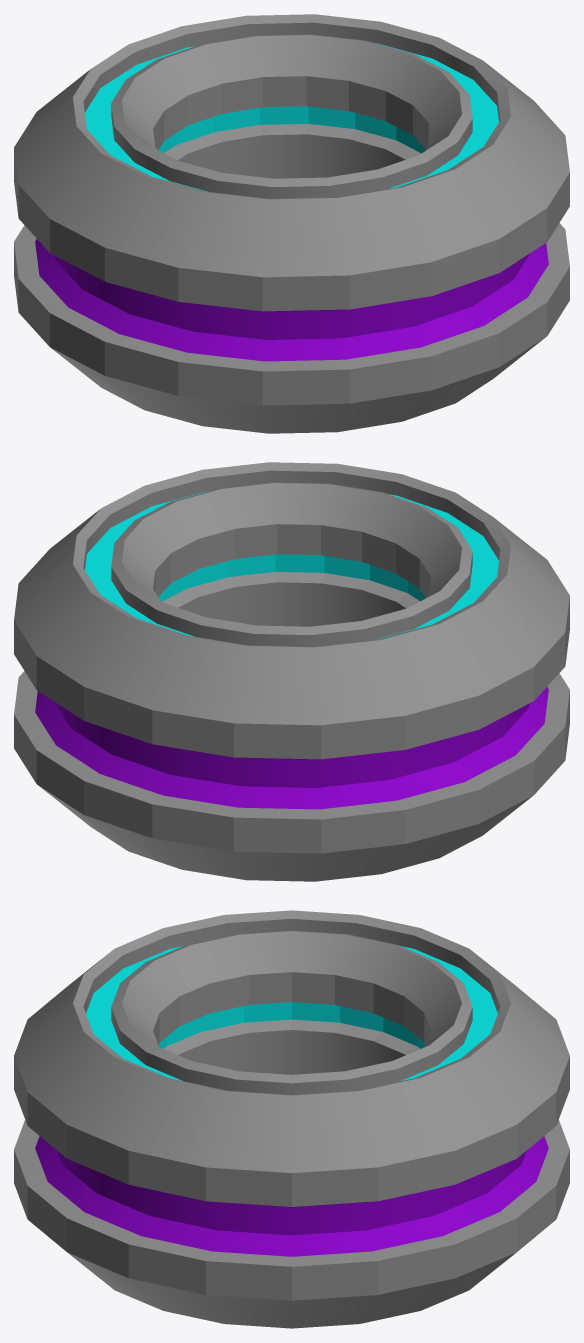
File: Jump Loop.fbx
The picture shows the model from 3 angles, top to bottom: view 1: azimuth 30°, elevation 25°; view 2: azimuth 150°, elevation 25°; view 3: azimuth 270°, elevation 25°; orthographic projection.
Visible parts, largest first — view 1: pPipe1; view 2: pPipe1; view 3: pPipe1.
Part boxes in pixels (<box>): pPipe1: <box>14,14,569,433</box>; pPipe1: <box>14,462,569,881</box>; pPipe1: <box>14,910,569,1328</box>.
Size of the model in its own units: 118 by 54.41 by 118.
